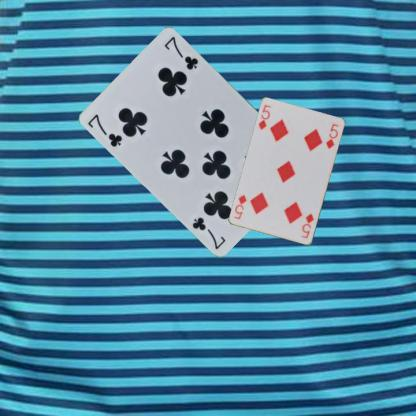5d: (299, 211, 315, 240), (256, 102, 272, 131)
7c: (86, 112, 124, 148)
